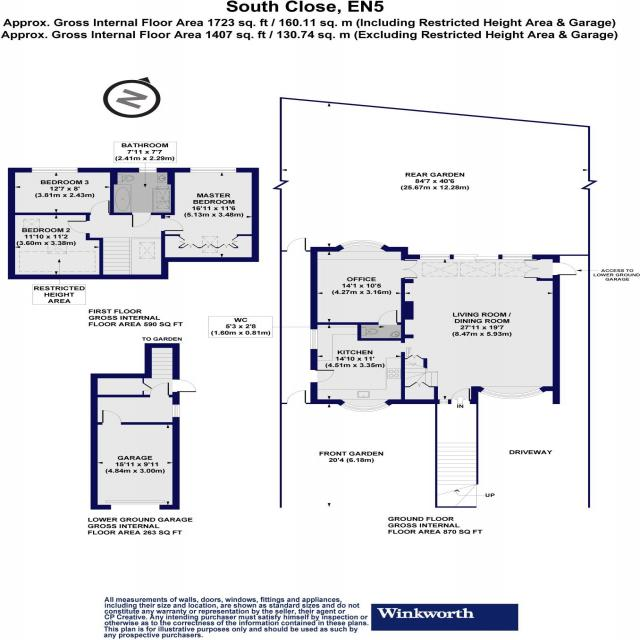DOOR: (160, 217, 186, 233), (309, 369, 336, 384), (551, 262, 578, 276), (66, 220, 91, 235), (131, 212, 153, 229), (377, 309, 399, 326), (450, 388, 471, 405), (89, 200, 110, 216), (286, 237, 308, 252), (286, 390, 307, 405)
ROOM: (400, 254, 578, 404), (160, 167, 260, 262), (309, 239, 418, 325), (310, 325, 406, 412), (7, 212, 104, 280), (6, 167, 118, 215)
WINDOW: (479, 387, 544, 400), (339, 401, 390, 413), (339, 239, 386, 250), (30, 167, 79, 173), (189, 167, 238, 173), (501, 254, 534, 260), (309, 328, 318, 350), (419, 254, 451, 260), (138, 167, 158, 173), (439, 399, 449, 405)
